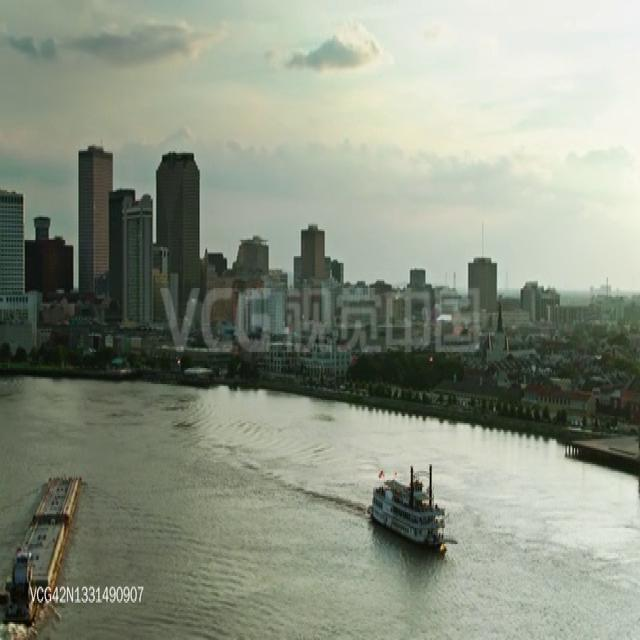cargoship: (1, 472, 86, 638)
passenger ship: (368, 466, 456, 546)
